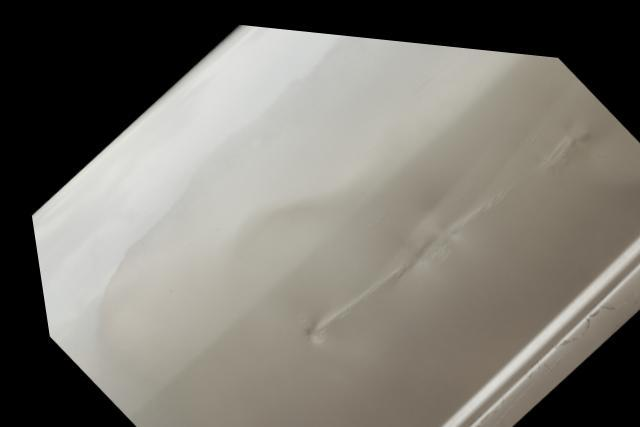dent: (218, 116, 510, 353), (536, 63, 640, 175)
